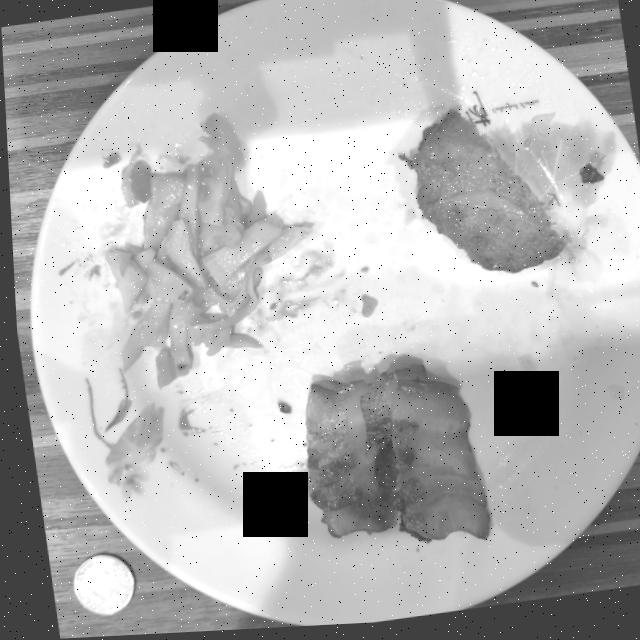Spam: (397, 114, 562, 277)
coin: (67, 554, 128, 615)
red grilled pork: (300, 368, 483, 546)
